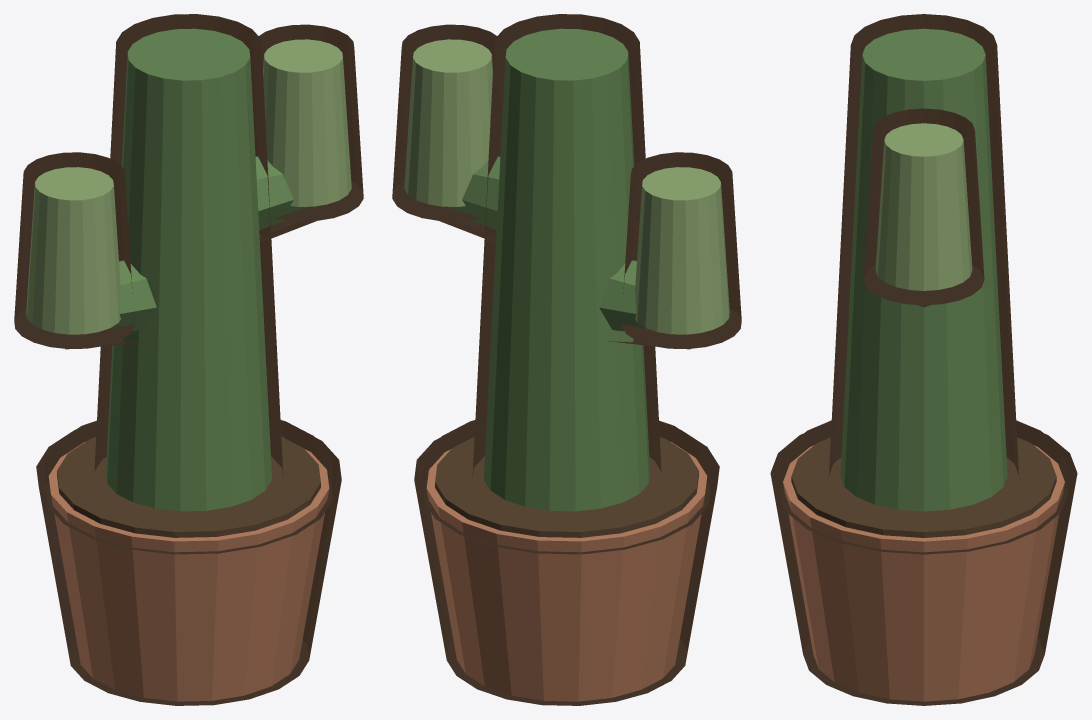
The model's file is cactus-plant.glb.
The picture shows the model from 3 angles, left to right: view 1: azimuth 30°, elevation 25°; view 2: azimuth 150°, elevation 25°; view 3: azimuth 270°, elevation 25°; orthographic projection.
Parts seen in each view (by area): view 1: cactus-plant, cactus-plant-outline; view 2: cactus-plant, cactus-plant-outline; view 3: cactus-plant, cactus-plant-outline.
Part boxes in pixels (x1,y1,x2,y2): cactus-plant: [26, 28, 351, 701]; cactus-plant-outline: [14, 14, 363, 705]; cactus-plant: [404, 28, 729, 701]; cactus-plant-outline: [392, 14, 741, 705]; cactus-plant: [783, 28, 1064, 701]; cactus-plant-outline: [770, 14, 1077, 705].
Bounding box in the file's own units: 0.4373 × 0.7677 × 0.3484.
